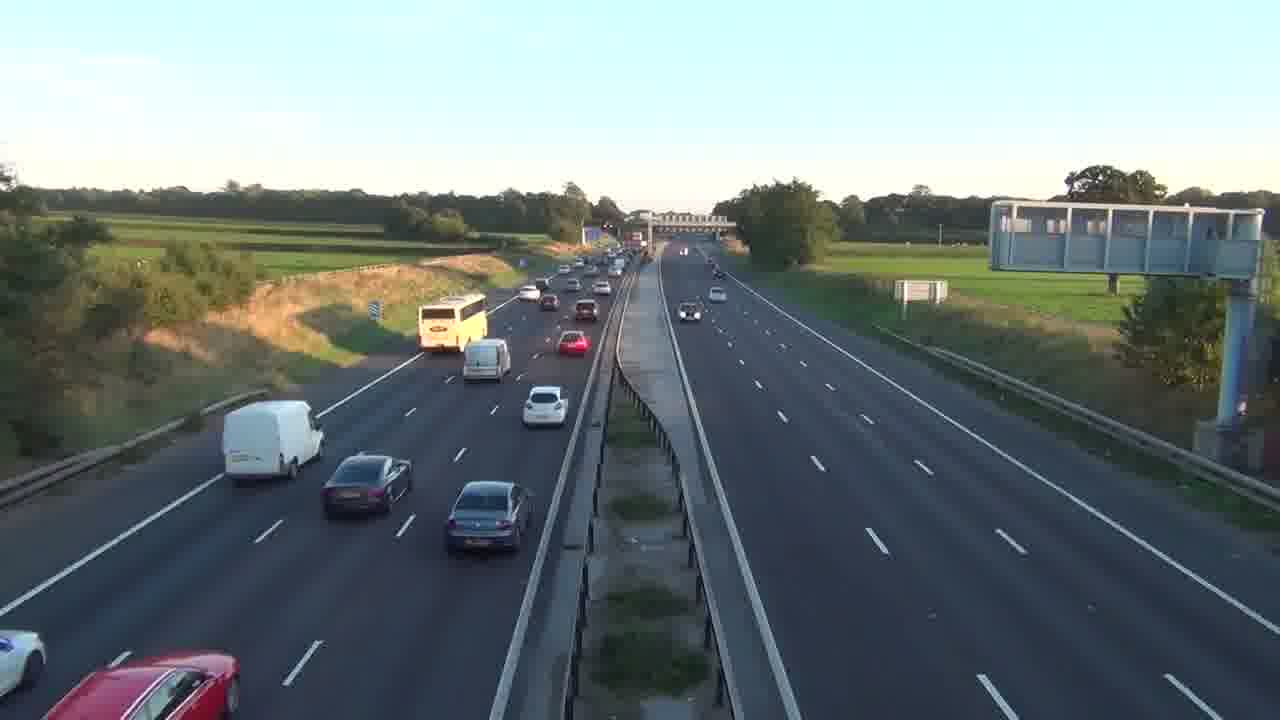bus: (417, 292, 488, 353)
car: (43, 648, 241, 719), (444, 480, 532, 554), (320, 453, 413, 518), (521, 385, 568, 429), (557, 330, 590, 356), (574, 299, 599, 323)
truck: (222, 399, 324, 482), (417, 292, 488, 353), (462, 337, 512, 384)
